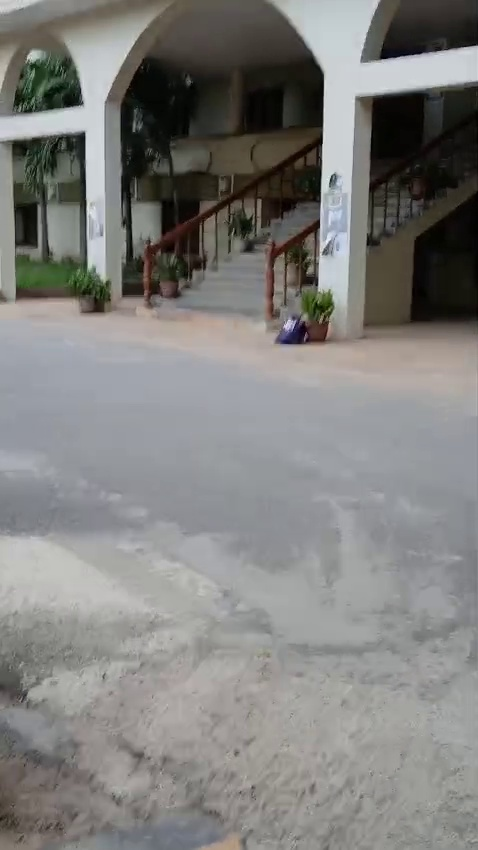bag: (269, 303, 308, 349)
